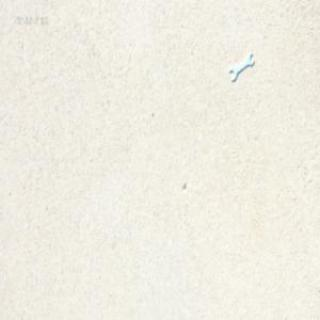Wrenchtrack_idkeyframe: (227, 53, 253, 82)
